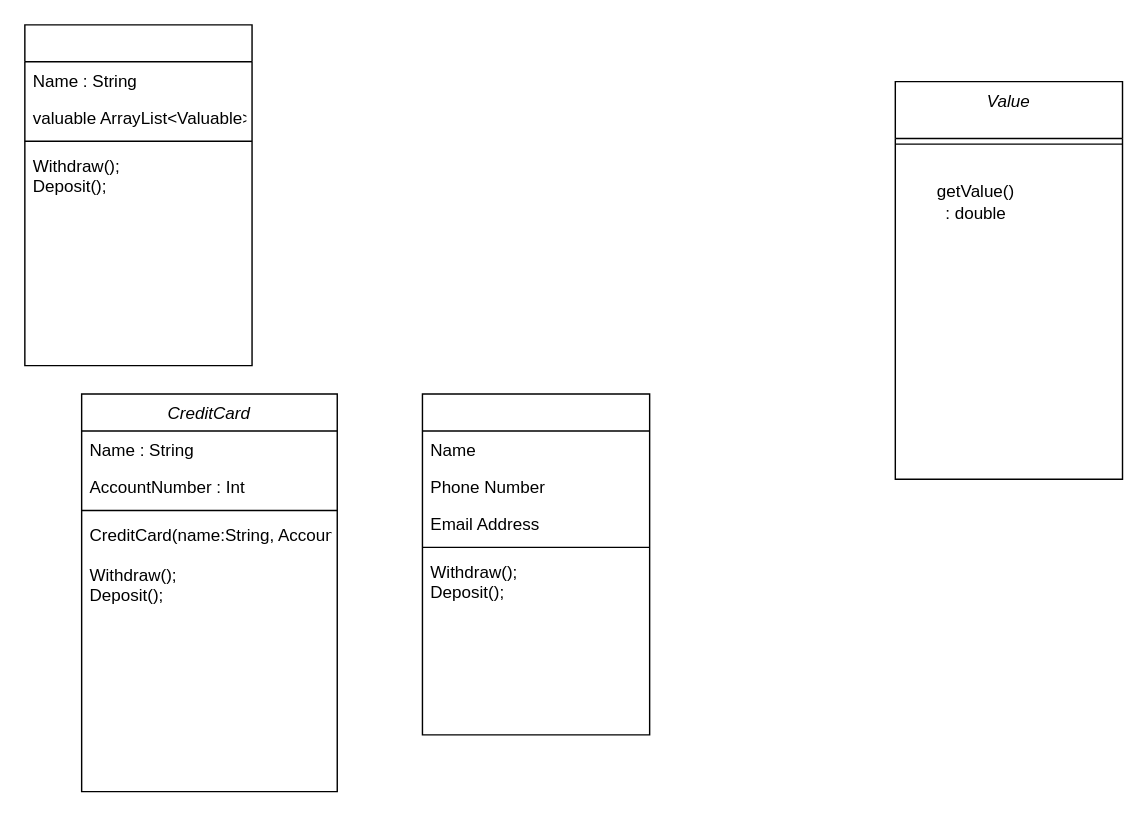
Some shapes in this 1147 by 817 pixel diagram are drawn without their labels. Each missing label, with the box of its shape:
BankAccount: (421, 393, 650, 735)
Portfolio: (23, 23, 252, 366)
